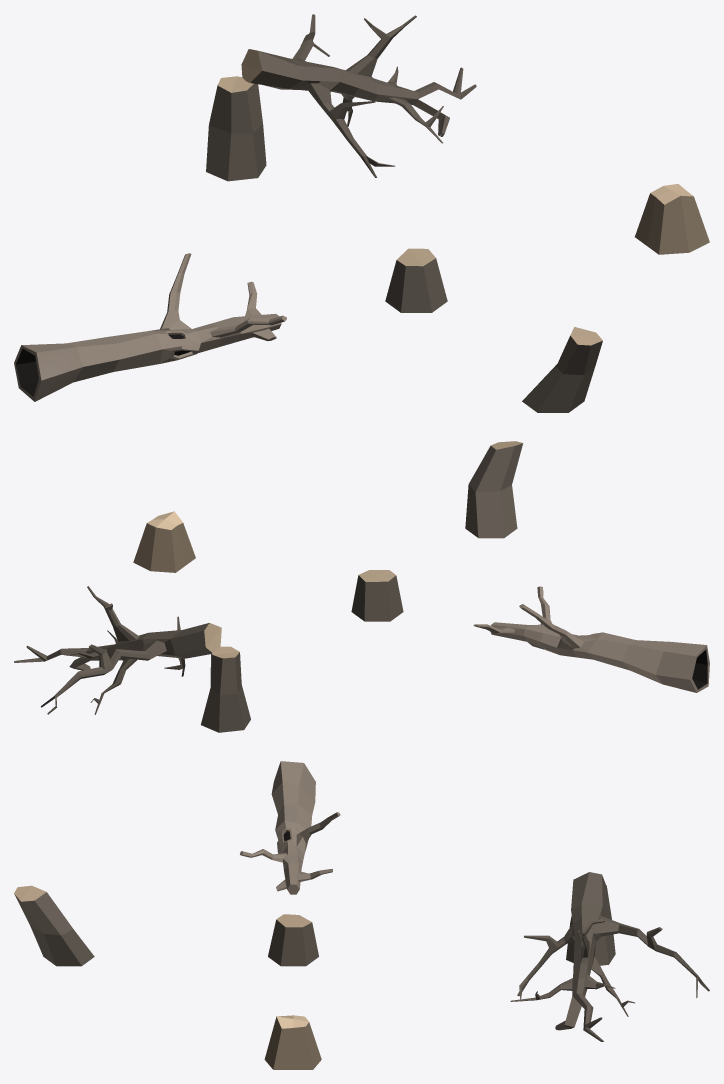
Rendered from ArvoresCortadasFloresta.fbx.
3 renders of one model, top to bottom at view 1: azimuth 30°, elevation 25°; view 2: azimuth 150°, elevation 25°; view 3: azimuth 270°, elevation 25°, orthographic. The views are drawn at different scales.
Visible parts, largest first — view 1: Arvore01.001, Arvore04, Arvore05, Arvore02, Arvore01; view 2: Arvore01.001, Arvore04, Arvore02, Arvore05, Arvore01; view 3: Arvore01.001, Arvore04, Arvore02, Arvore05, Arvore01.
Part boxes in pixels (x1,y1,x2,y2): Arvore01.001: [206, 14, 476, 181]; Arvore04: [14, 253, 286, 401]; Arvore05: [635, 184, 709, 254]; Arvore02: [522, 327, 602, 412]; Arvore01: [385, 248, 447, 312]; Arvore01.001: [14, 586, 250, 732]; Arvore04: [473, 586, 709, 692]; Arvore02: [465, 441, 523, 538]; Arvore05: [133, 511, 195, 572]; Arvore01: [351, 570, 403, 621]; Arvore01.001: [510, 872, 709, 1041]; Arvore04: [240, 761, 340, 894]; Arvore02: [14, 885, 94, 966]; Arvore05: [264, 1015, 321, 1069]; Arvore01: [268, 914, 318, 966].
Size of the model in its own units: 1581 by 279 by 1729.
